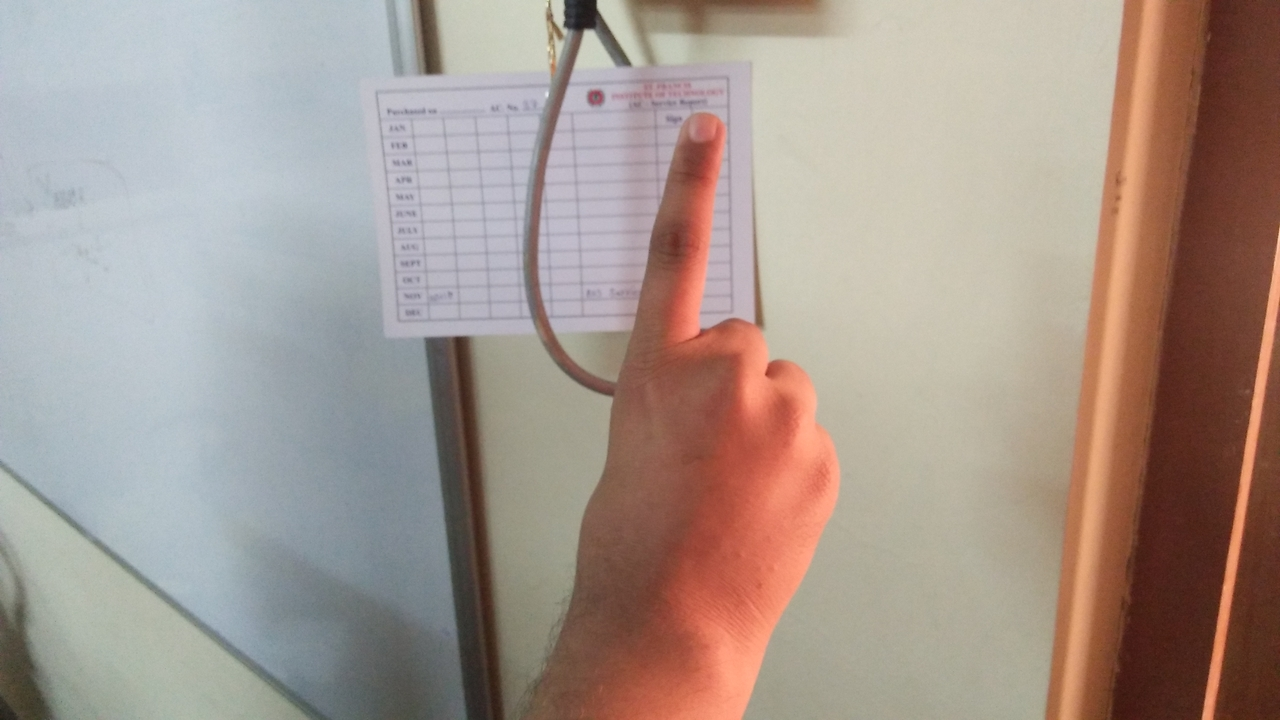fingertip: (668, 102, 730, 160)
